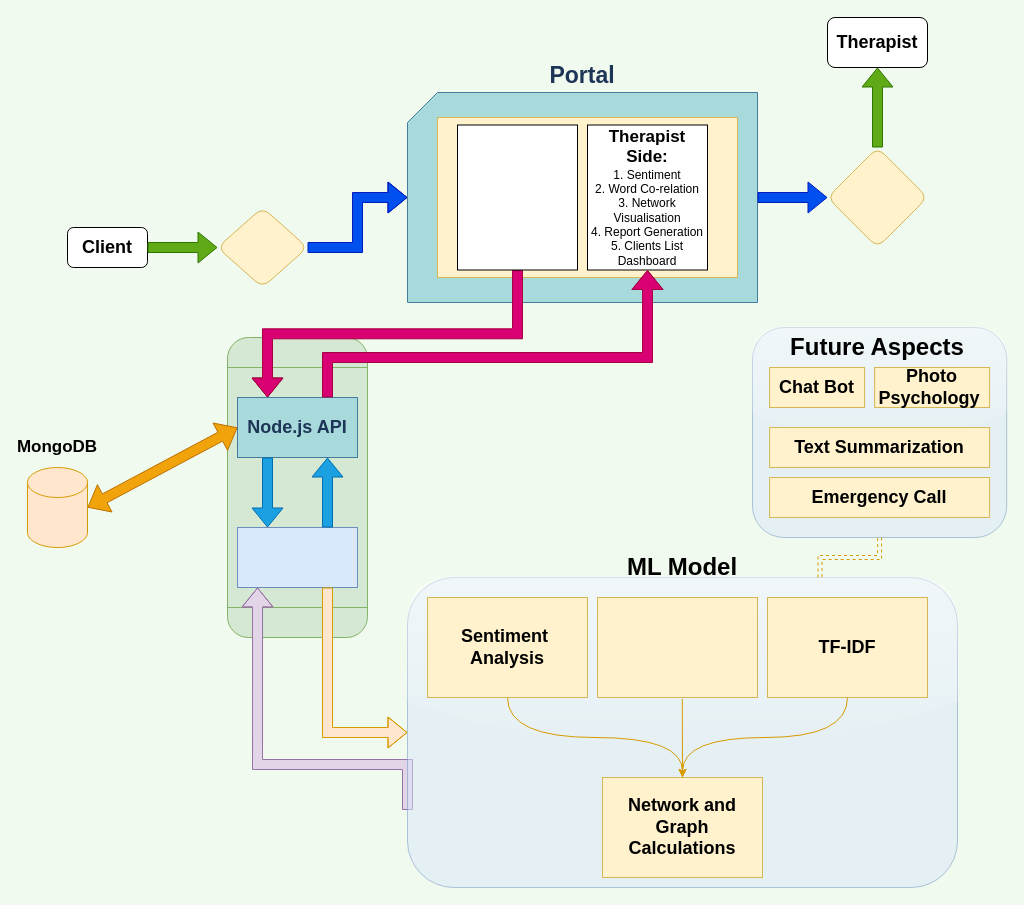
Some shapes in this 1024 by 905 pixel diagram are drawn without their labels. The box of each missing label's shape, as (x1, y1, x2, y2) in pixels:
Client Side: 1. Journalling: (456, 124, 578, 270)
Flask API: (236, 526, 358, 588)
Logs: (216, 206, 308, 288)
Reports: (826, 146, 928, 248)
Server: (226, 336, 368, 638)
Word Co-relation: (596, 596, 758, 698)
